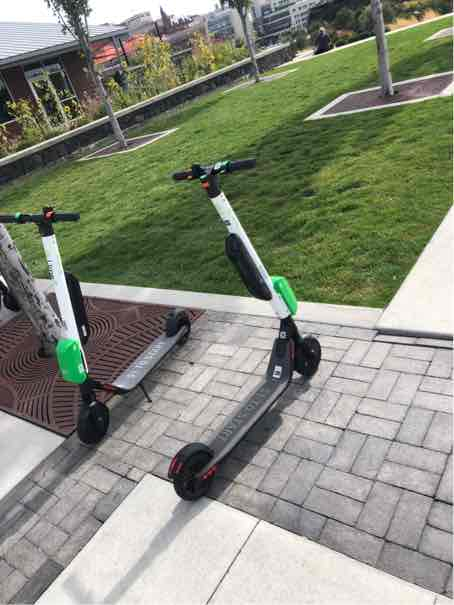scooter: (160, 151, 331, 518), (8, 207, 206, 460)
